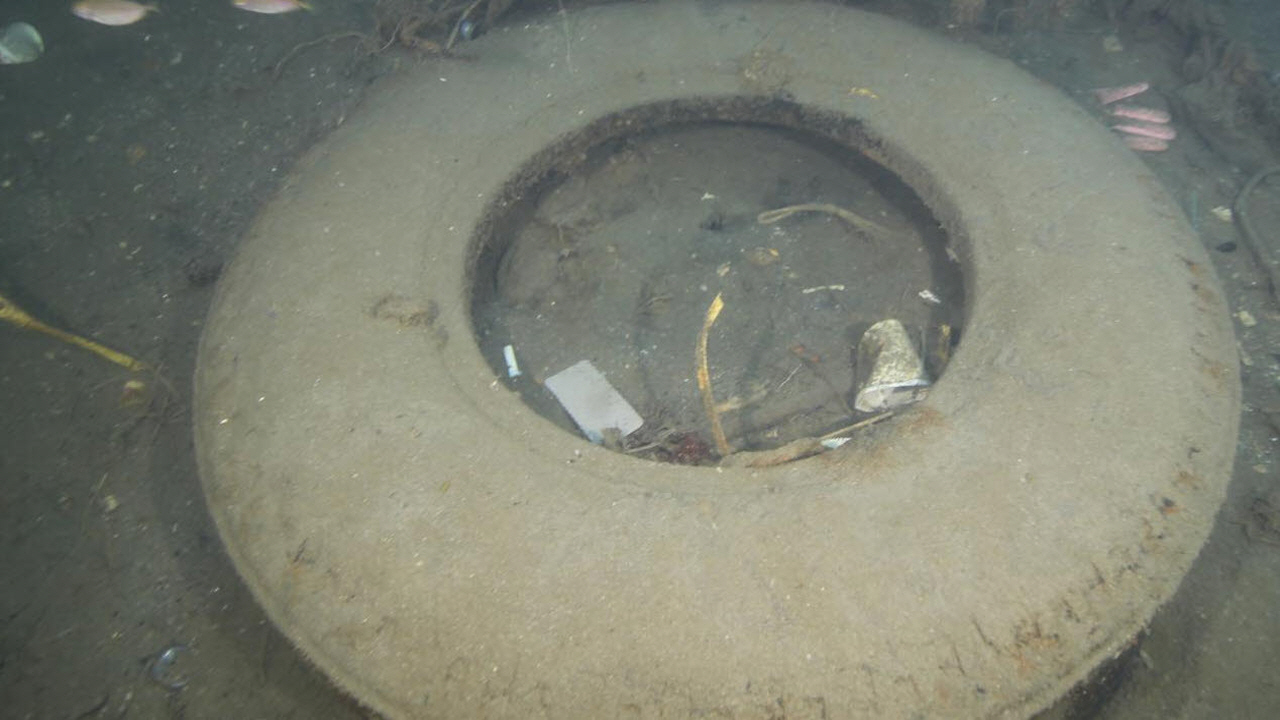tire: (187, 0, 1243, 720)
